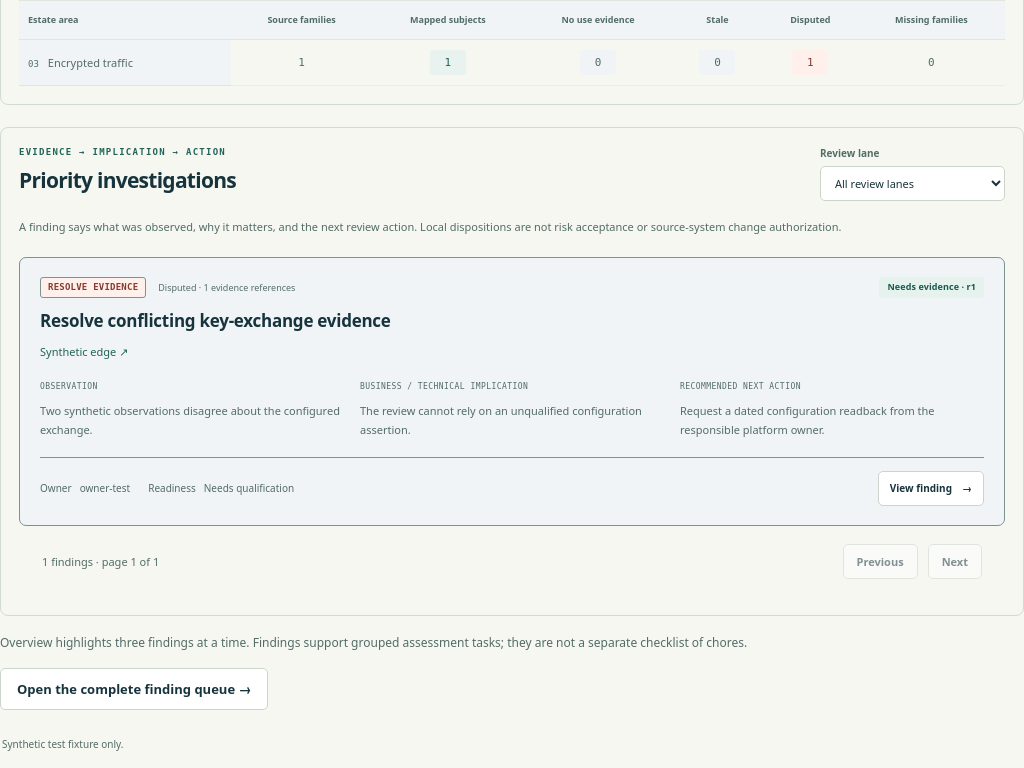
analytical workspace › preserves stored draft wording and never rewrites history when the display label changes
(page scrolled)
Click the button "View finding →".
click(931, 489)  # box [878, 471, 984, 506]
(page scrolled)
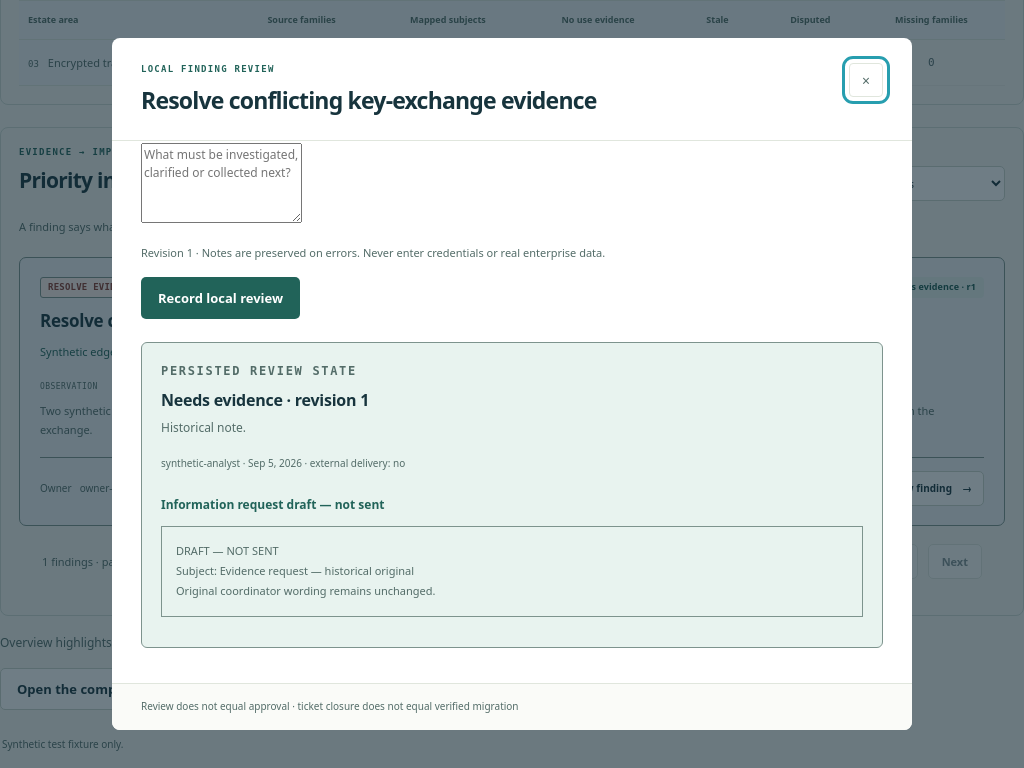
Expected: the heading "Information request draft — not sent" is shown, [161, 496, 384, 513]
